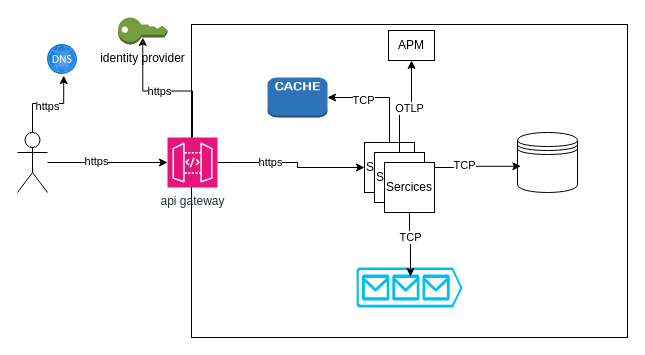
This 645x355 diagram has some shape labels left out. The shapes that lost their labels are listed below. From the top down, each one's box as (x1, y1, x2, y2) in pixels, then its label:
(16, 132, 48, 192): Client
(516, 132, 578, 192): BD
(356, 267, 462, 307): queue
